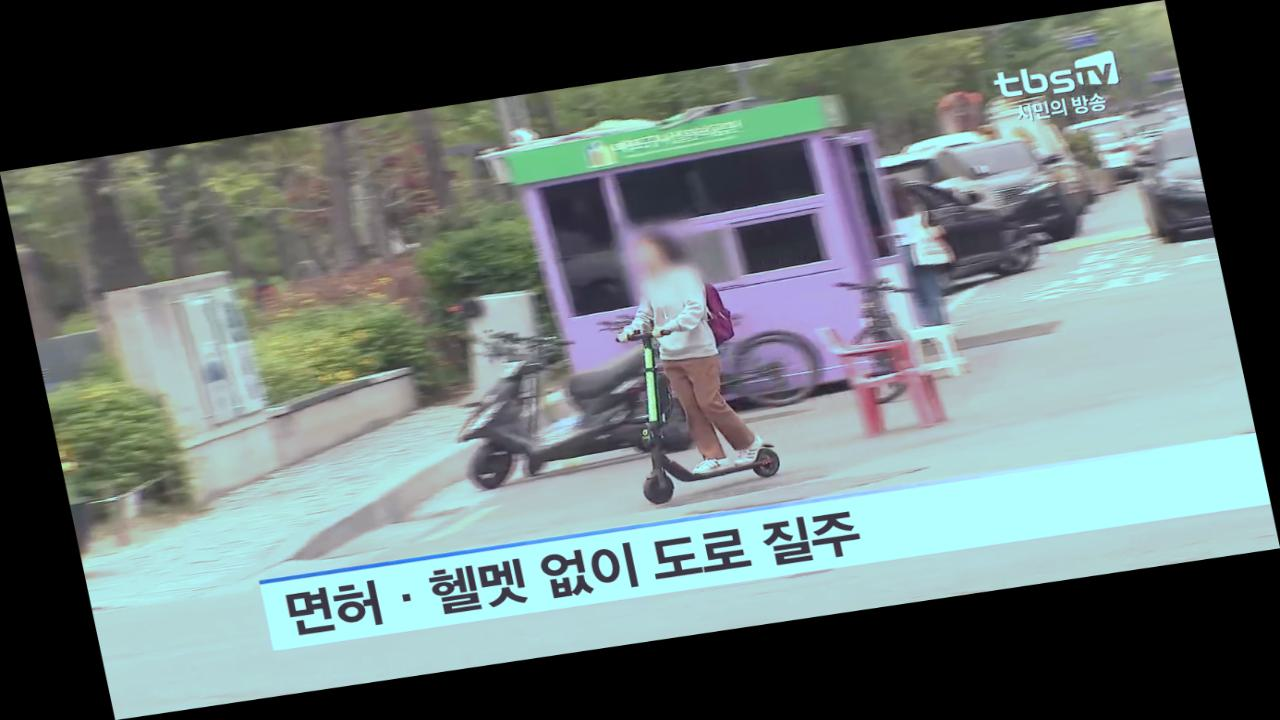nonhelmet: (581, 217, 801, 507)
